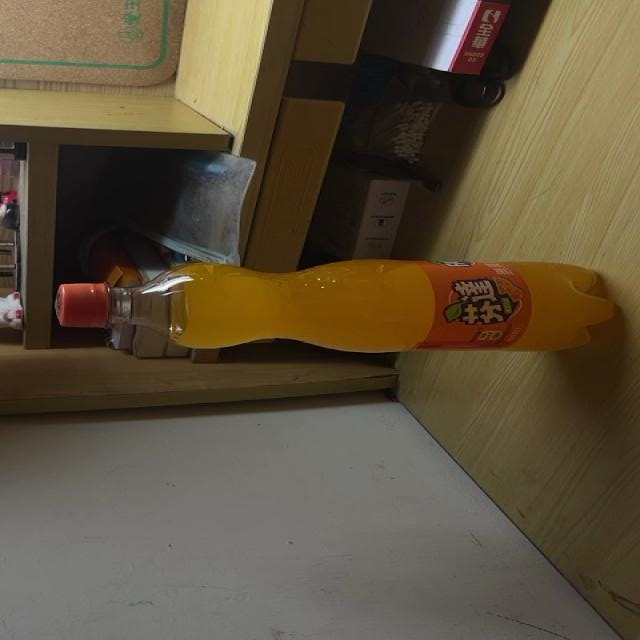Fanta: (55, 258, 611, 353)
